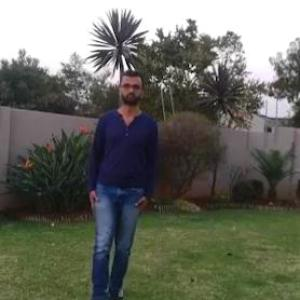follow: (86, 87, 146, 287)
